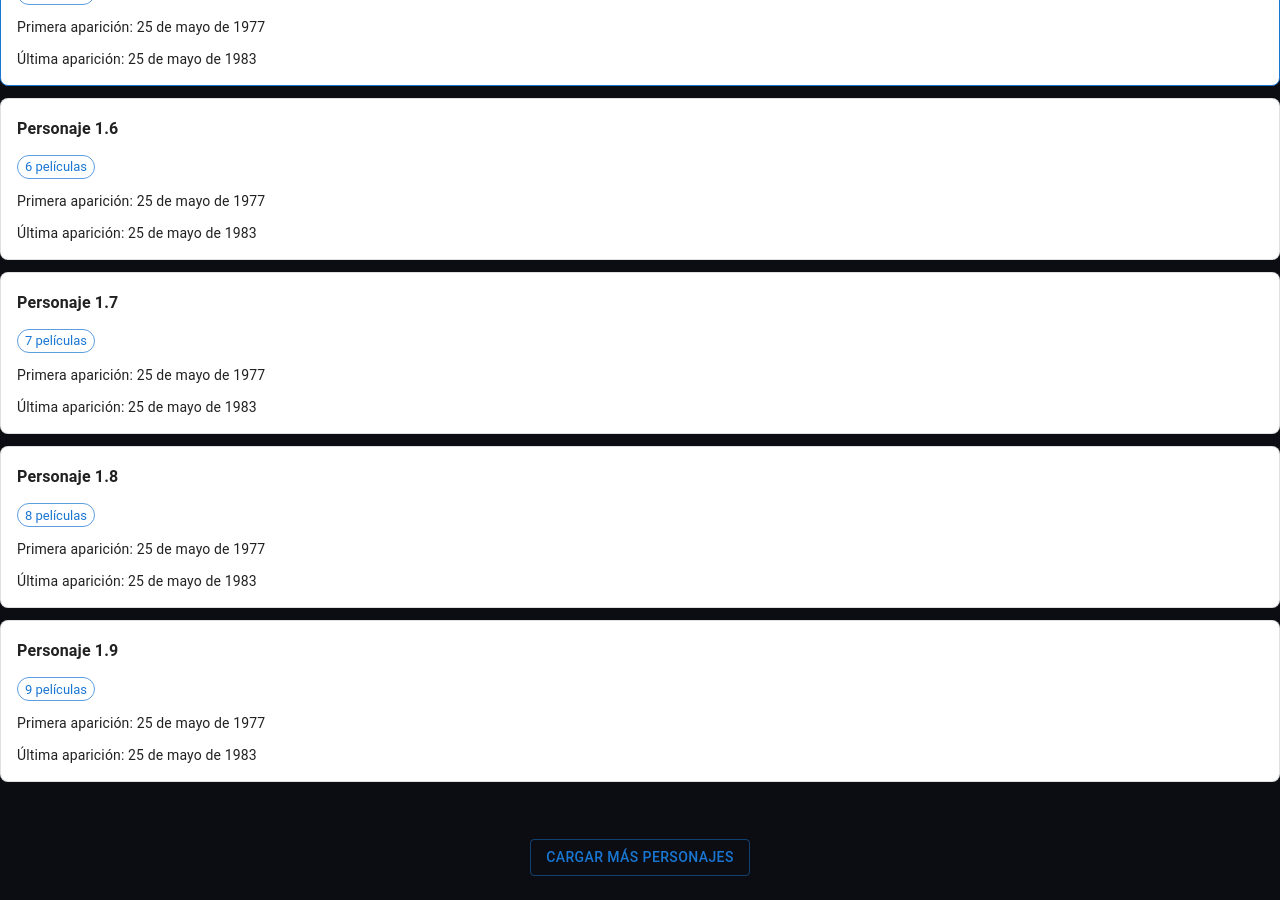
Scenario: TarjetasPersonajes › en la ultima pagina el boton desaparece
(page scrolled)
Click the button "Cargar más personajes" at (640, 858), box x1=530 y1=839 x2=750 y2=876
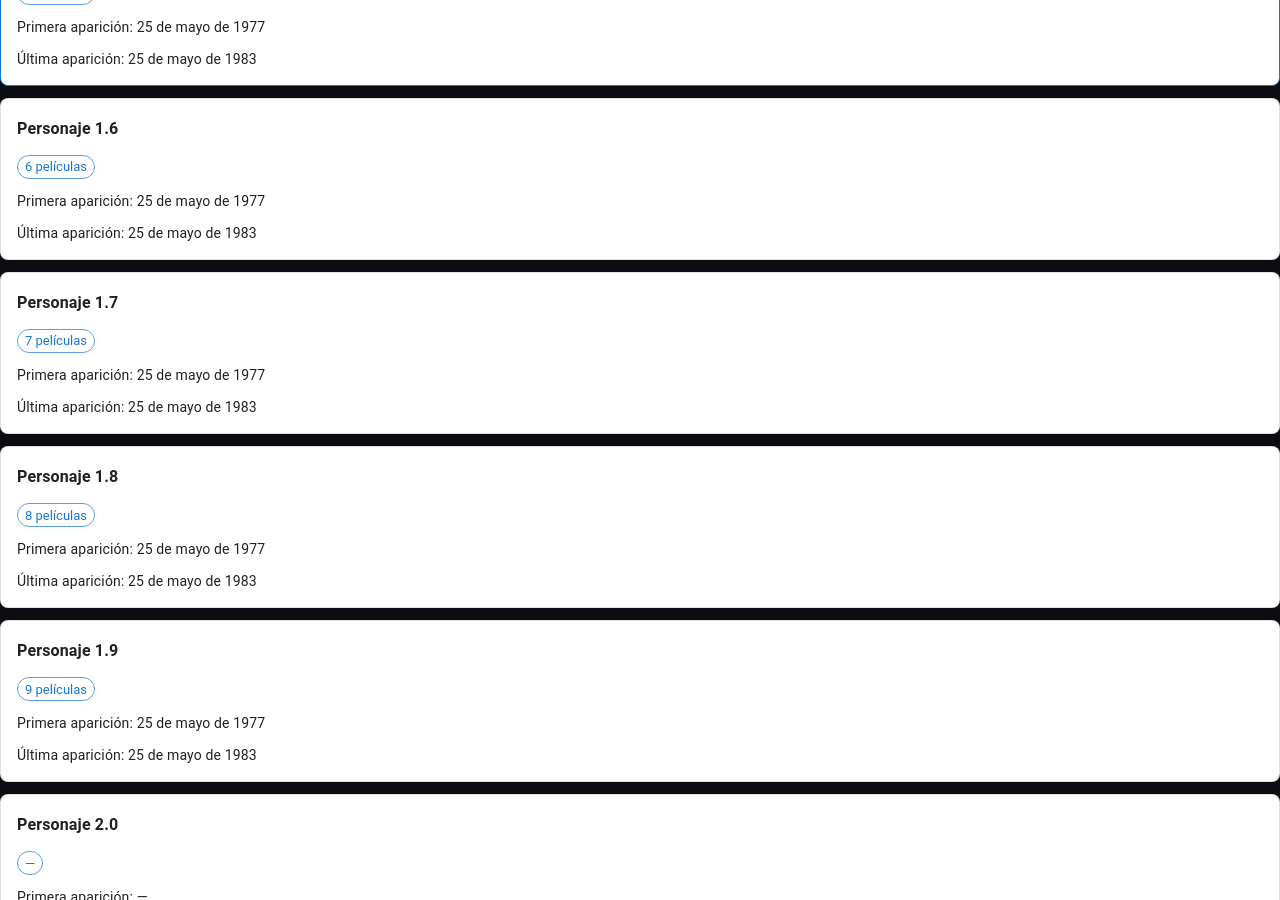
Now the link with aria-label "Ver el detalle de Personaje 2.0" is shown, box x1=17 y1=815 x2=118 y2=834
Now the button "Cargar más personajes" is gone
